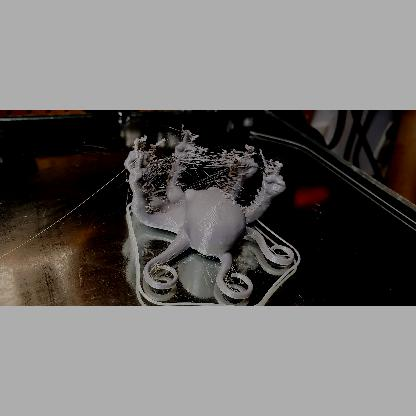fail: (183, 149, 244, 185), (146, 152, 170, 192), (253, 157, 277, 173)
